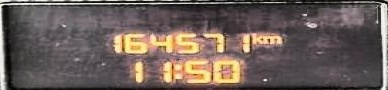0: (211, 59, 238, 82)
1: (130, 59, 146, 84), (160, 59, 171, 82), (112, 32, 122, 53), (240, 33, 250, 52)
4: (147, 33, 173, 52)
5: (183, 58, 210, 83), (174, 32, 197, 53)
6: (123, 31, 146, 53)
7: (204, 32, 225, 53)
X: (171, 62, 183, 79), (261, 34, 281, 43), (251, 32, 261, 43)
